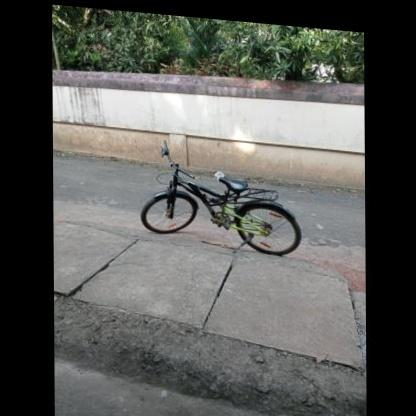Bicycle: (132, 142, 308, 270)
